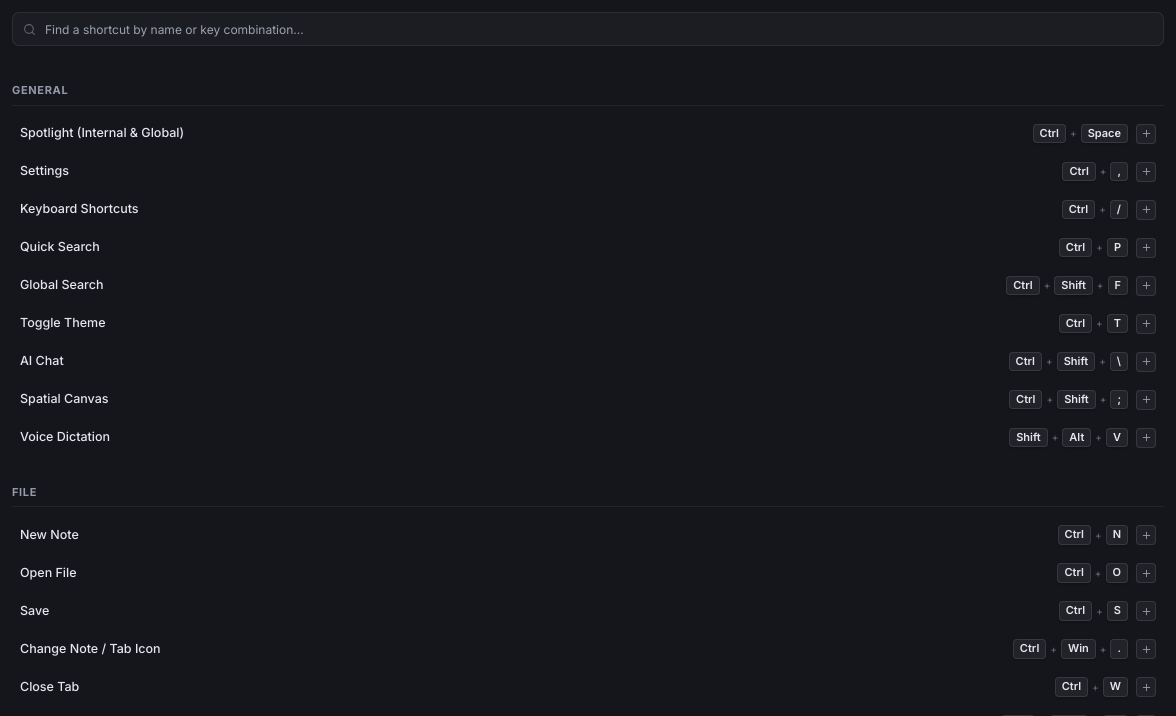
Test: SettingShortcuts › renders no results message when query has no matches
Type "xyznonexistent123" into the field with placeholder "Find a shortcut by name or key combination..." at (588, 29), box [12, 12, 1164, 46]
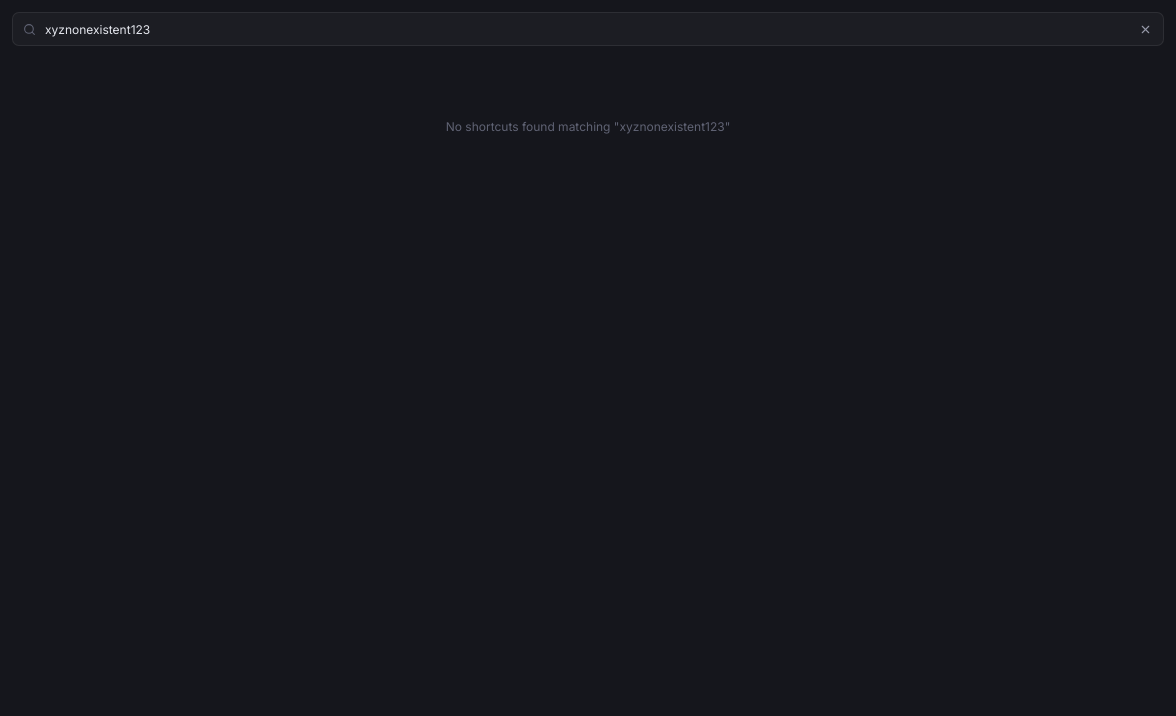
Expected: the text "No shortcuts found matching \"xyznonexistent123\"" is shown, [446, 119, 730, 134]
